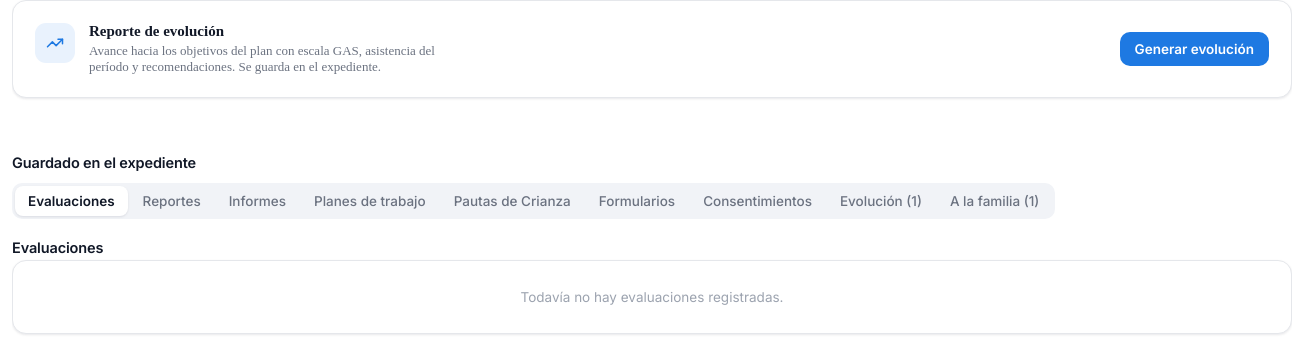
Test case: lo generado aparece junto a lo guardado › la de evolución lista el período y quién lo generó
This screenshot has width=1292, height=352.
Click the button "Evolución (1)": (881, 201) left=827, top=186, right=935, bottom=216
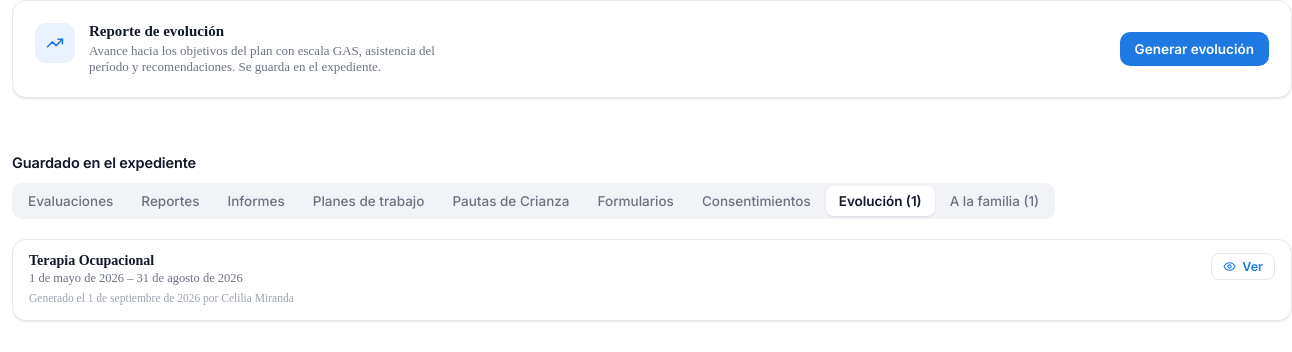
Expected: the text "Terapia Ocupacional" is shown, left=29, top=253, right=154, bottom=268
Expected: the text "Celilia Miranda" is shown, left=29, top=292, right=294, bottom=304
